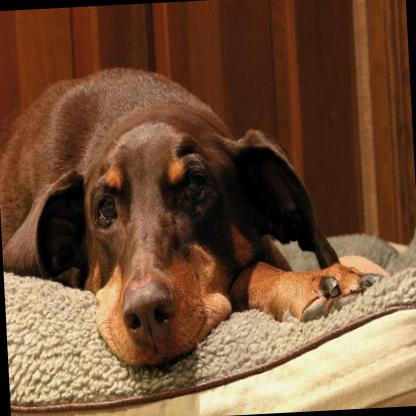Doberman: (0, 50, 389, 375)
